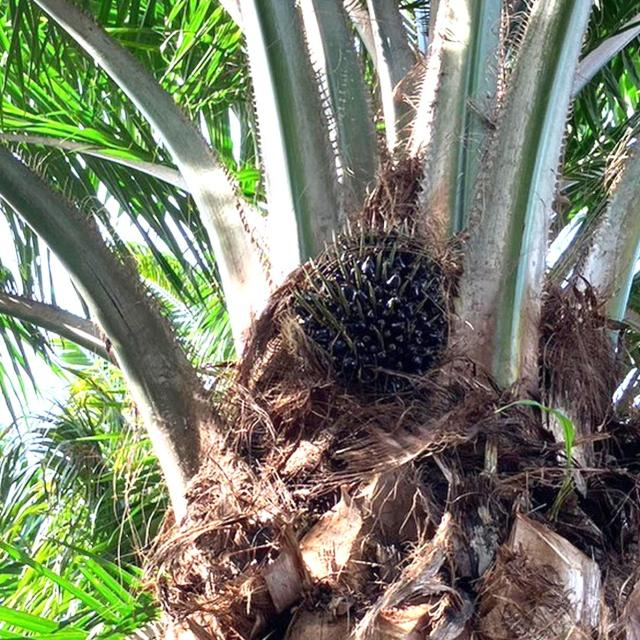unripe: (274, 208, 471, 418)
